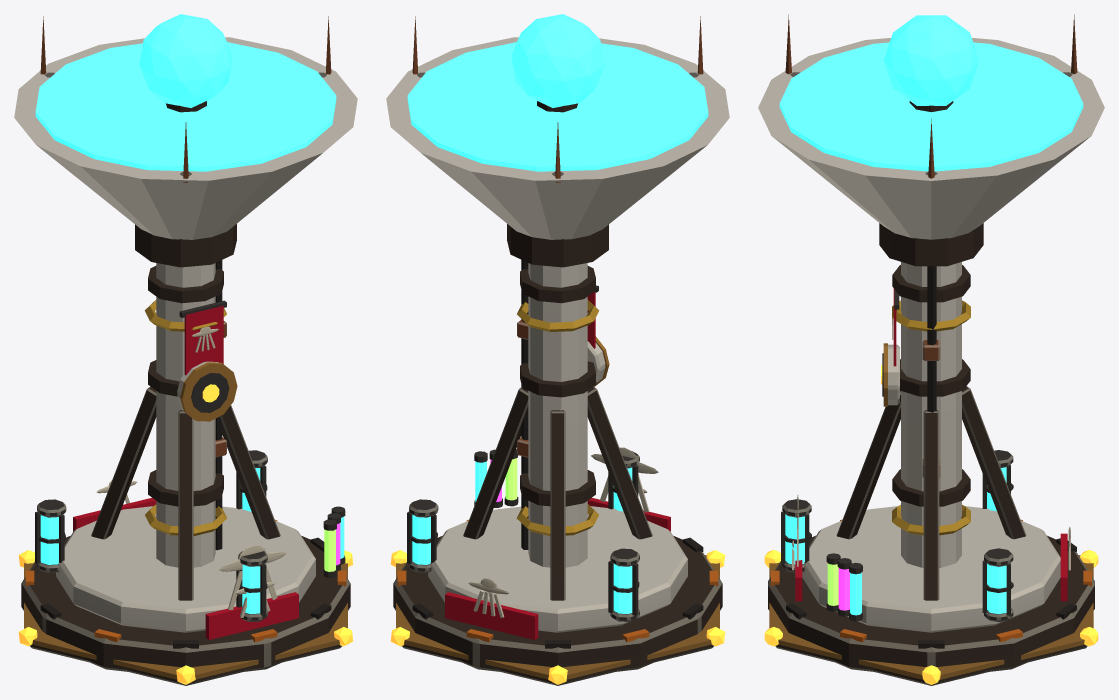
File: gb_depot.glb
The picture shows the model from 3 angles, left to right: view 1: azimuth 30°, elevation 25°; view 2: azimuth 150°, elevation 25°; view 3: azimuth 270°, elevation 25°; orthographic projection.
Visible parts, largest first — view 1: gb_depot; view 2: gb_depot; view 3: gb_depot.
Part boxes in pixels (bbox=[...]): gb_depot: bbox=[14, 14, 357, 685]; gb_depot: bbox=[386, 14, 729, 685]; gb_depot: bbox=[758, 14, 1104, 685].
Bounding box in the file's own units: 4.43 × 7.55 × 4.
